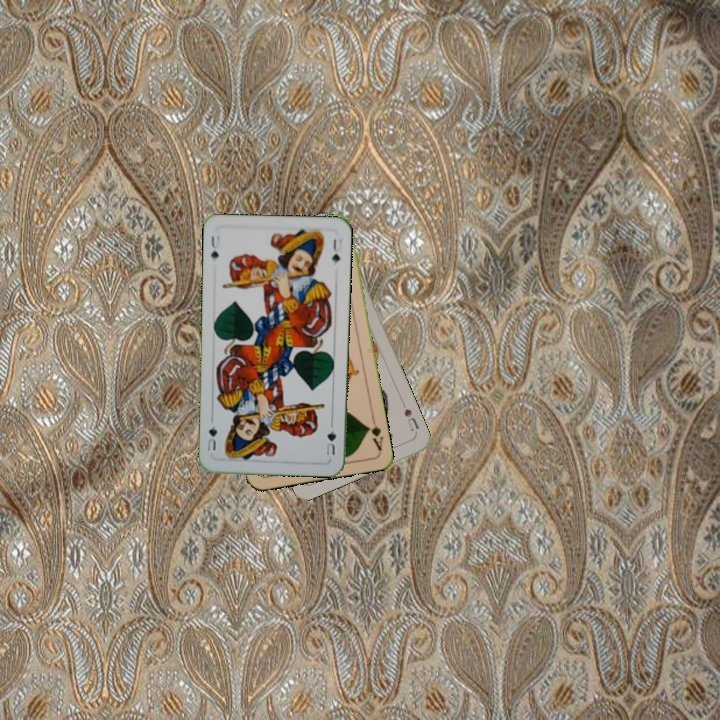GA: (363, 413, 385, 453)
GU: (322, 426, 339, 458), (207, 231, 223, 261)
SU: (400, 404, 422, 438)
